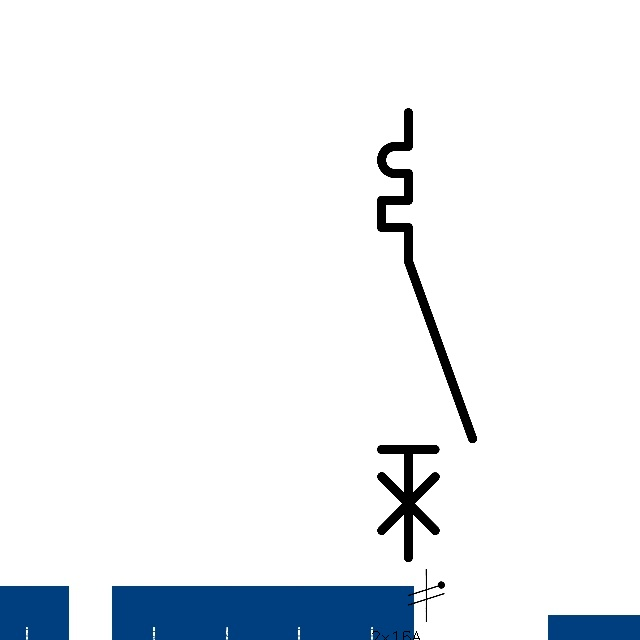interruptor_termomagnetico: (370, 101, 484, 569)
